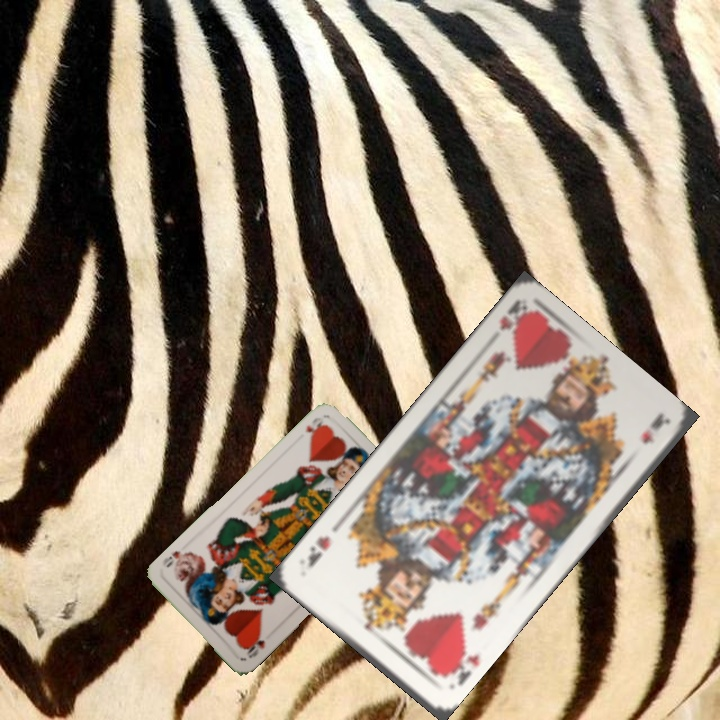HK: (438, 642, 483, 689), (495, 297, 532, 336)
HO: (241, 630, 267, 661), (301, 413, 326, 441)
